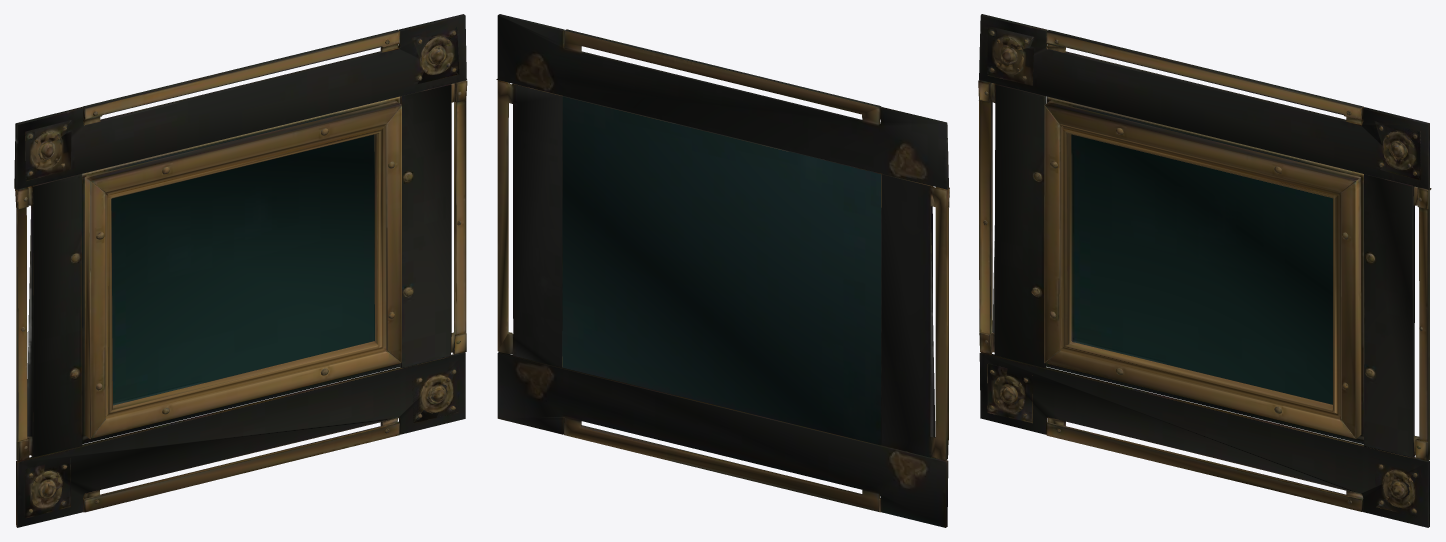
Rendered from board.glb.
3 renders of one model, left to right at view 1: azimuth 30°, elevation 25°; view 2: azimuth 150°, elevation 25°; view 3: azimuth 330°, elevation 25°, orthographic.
Visible parts, largest first — view 1: midway-fit; view 2: midway-fit; view 3: midway-fit.
Boxes of the visible parts, left/top/right/bottom form: midway-fit: left=14, top=14, right=467, bottom=527; midway-fit: left=496, top=14, right=949, bottom=527; midway-fit: left=978, top=14, right=1431, bottom=527.
Bounding box in the file's own units: 1 × 0.8562 × 0.028.
Materials: 1 (1 with a texture image).
